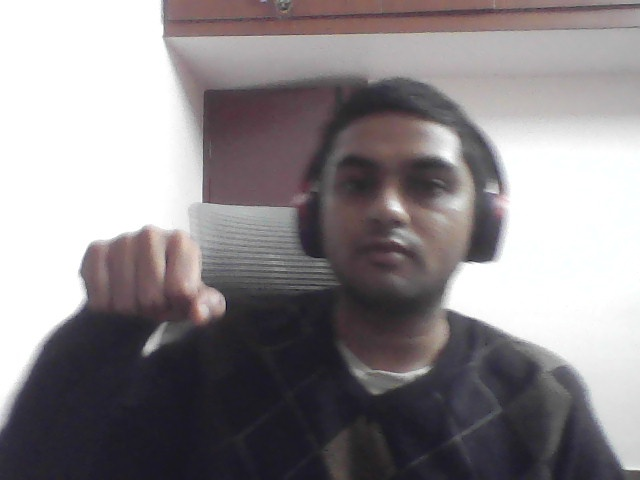Yes: (60, 213, 233, 391)
